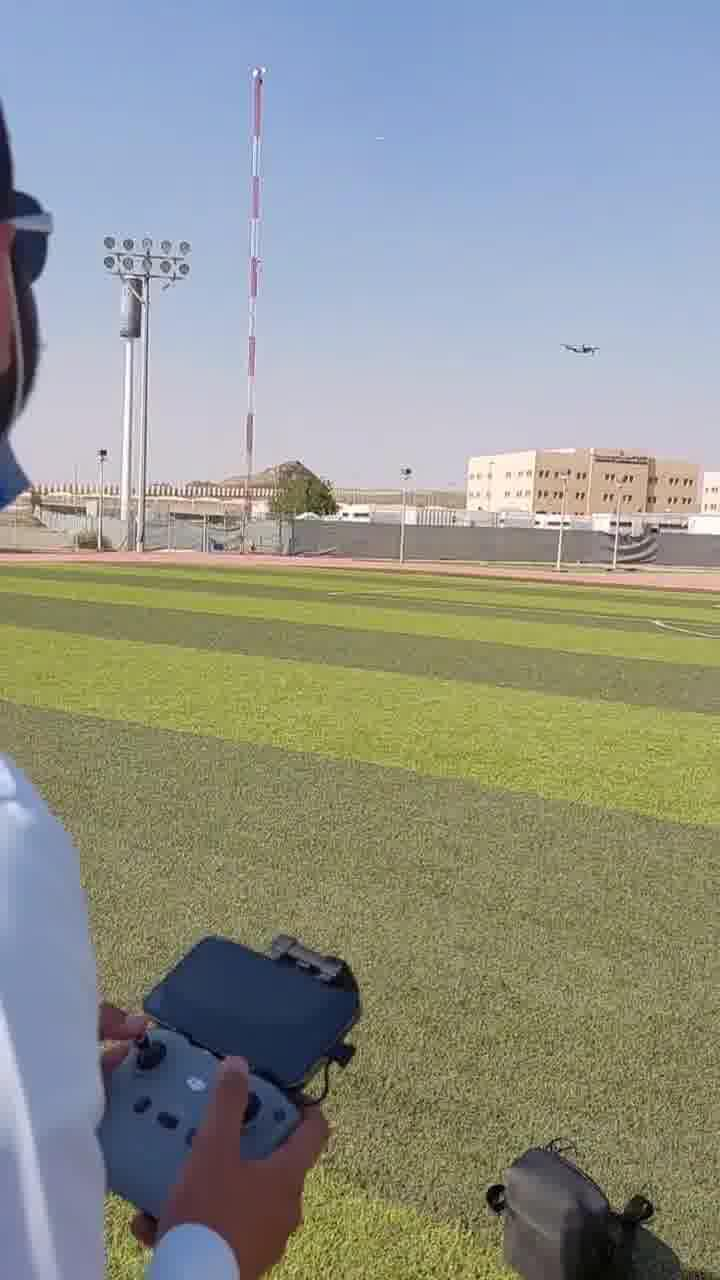drone: (552, 324, 613, 359)
